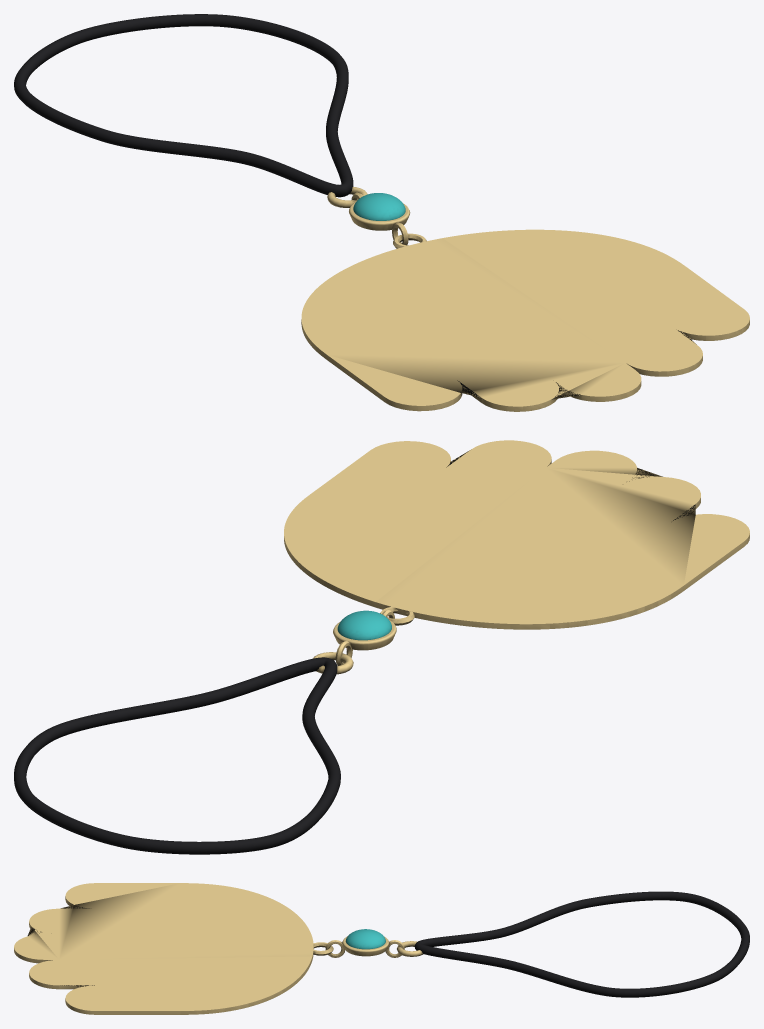
The model's file is hamsa.glb.
The picture shows the model from 3 angles, top to bottom: view 1: azimuth 30°, elevation 25°; view 2: azimuth 150°, elevation 25°; view 3: azimuth 270°, elevation 25°; orthographic projection. The views are drawn at different scales.
Parts seen in each view (by area): view 1: hamsa_brass, hamsa_cord, hamsa_st_turquoise; view 2: hamsa_brass, hamsa_cord, hamsa_st_turquoise; view 3: hamsa_brass, hamsa_cord, hamsa_st_turquoise.
Part boxes in pixels (left/top/right/bottom): hamsa_brass: left=301, top=186, right=749, bottom=411; hamsa_cord: left=14, top=14, right=353, bottom=197; hamsa_st_turquoise: left=353, top=193, right=405, bottom=220; hamsa_brass: left=284, top=440, right=749, bottom=674; hamsa_cord: left=14, top=657, right=340, bottom=854; hamsa_st_turquoise: left=337, top=610, right=391, bottom=640; hamsa_brass: left=14, top=883, right=423, bottom=1014; hamsa_cord: left=414, top=891, right=749, bottom=997; hamsa_st_turquoise: left=345, top=929, right=385, bottom=949.
Bounding box in the file's own units: 5 × 0.4767 × 12.15.
